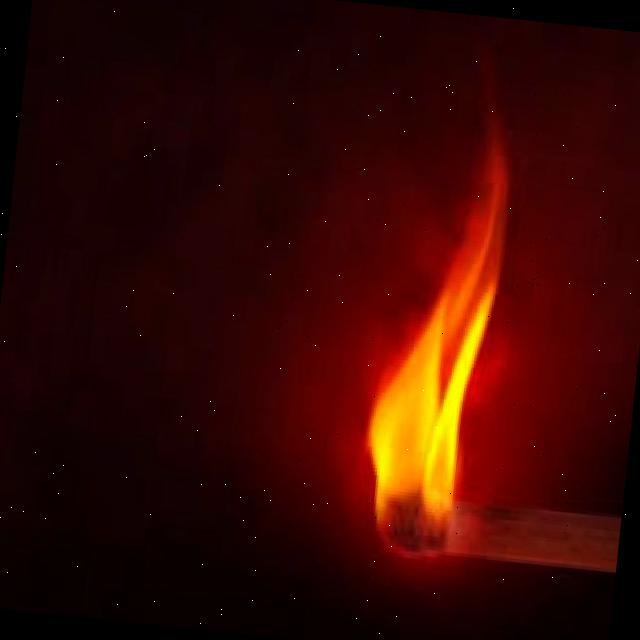fire: (348, 202, 508, 570)
